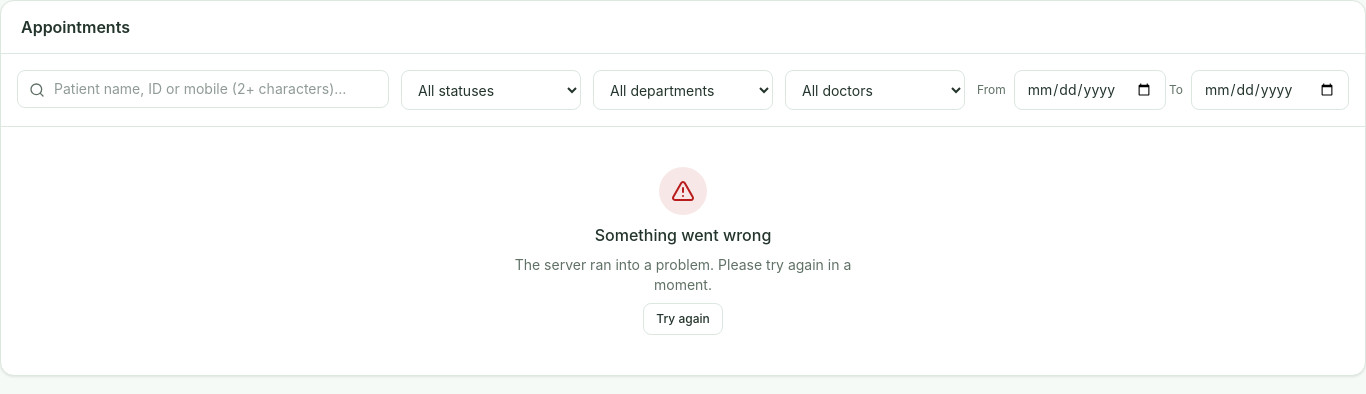
Test: AppointmentList: loading, empty and error states › shows a safe error and recovers on retry
This screenshot has width=1366, height=394.
Expected: the text "Something went wrong" is shown, [595,223,771,247]
Expected: the text "The server ran into a problem. Please try again in a moment." is shown, [491,255,875,295]
Click the button "Try again" at (683, 319), box [643,303,723,335]
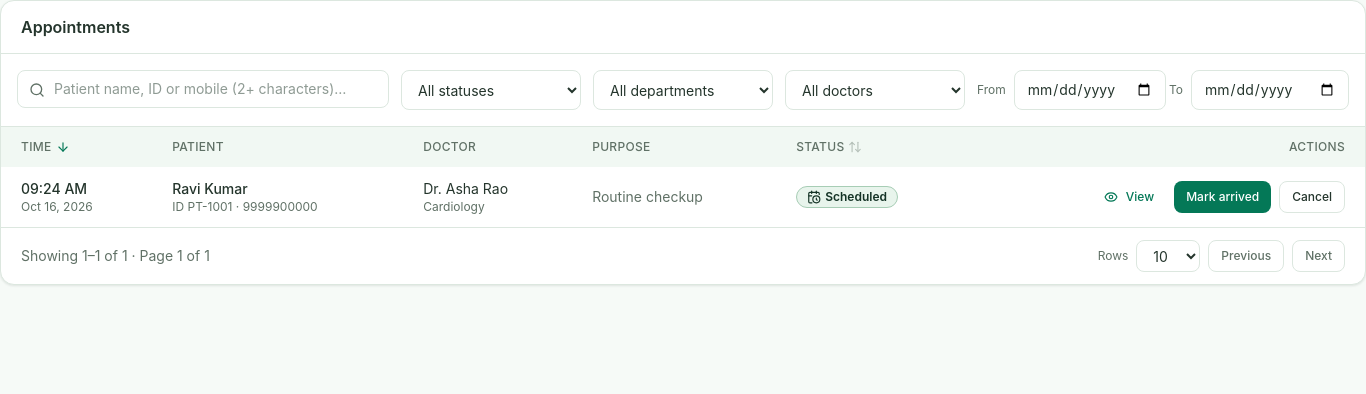
Now the text "Ravi Kumar" is shown, box [172,180,248,197]
